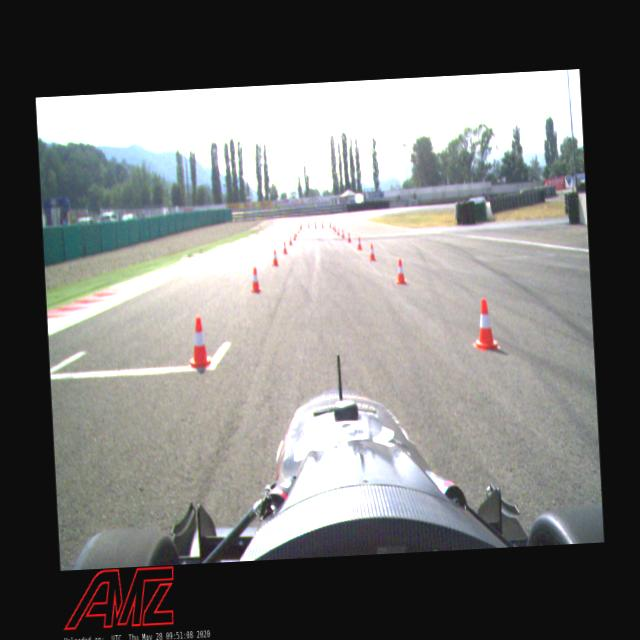large_orange_cone: (314, 219, 318, 229), (307, 220, 311, 230), (299, 221, 303, 230), (320, 220, 324, 228), (329, 220, 332, 228)
orange_cone: (471, 297, 502, 352), (187, 314, 212, 370), (248, 266, 262, 293), (394, 258, 407, 286), (368, 242, 377, 262), (271, 249, 279, 267), (356, 237, 363, 250), (282, 240, 288, 254), (346, 232, 352, 243), (288, 235, 293, 246), (341, 229, 345, 238), (292, 232, 296, 241), (294, 230, 298, 237), (334, 226, 338, 232), (298, 226, 302, 232), (332, 223, 335, 230), (297, 228, 300, 234), (338, 228, 340, 235)
